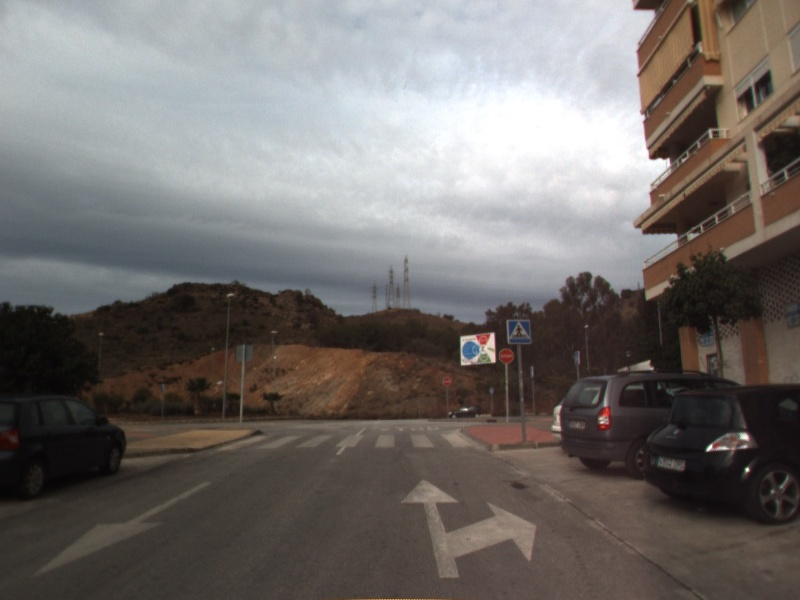STRAIGHT_RIGHT: (398, 476, 539, 580)
